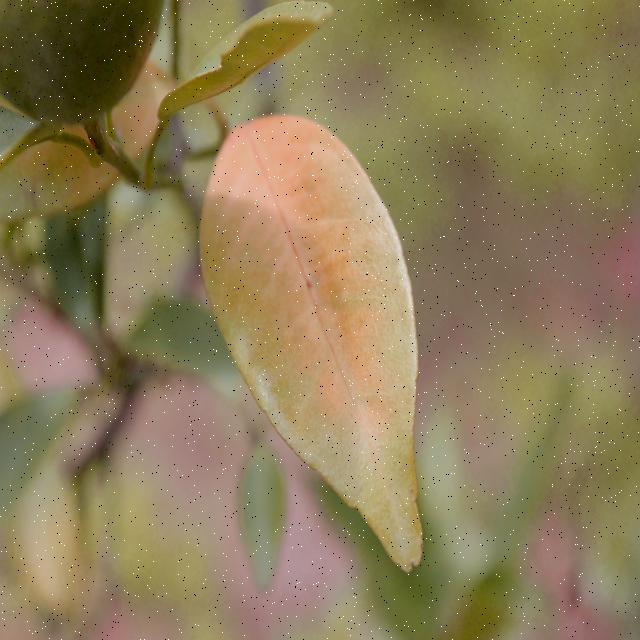greening: (212, 119, 408, 529)
